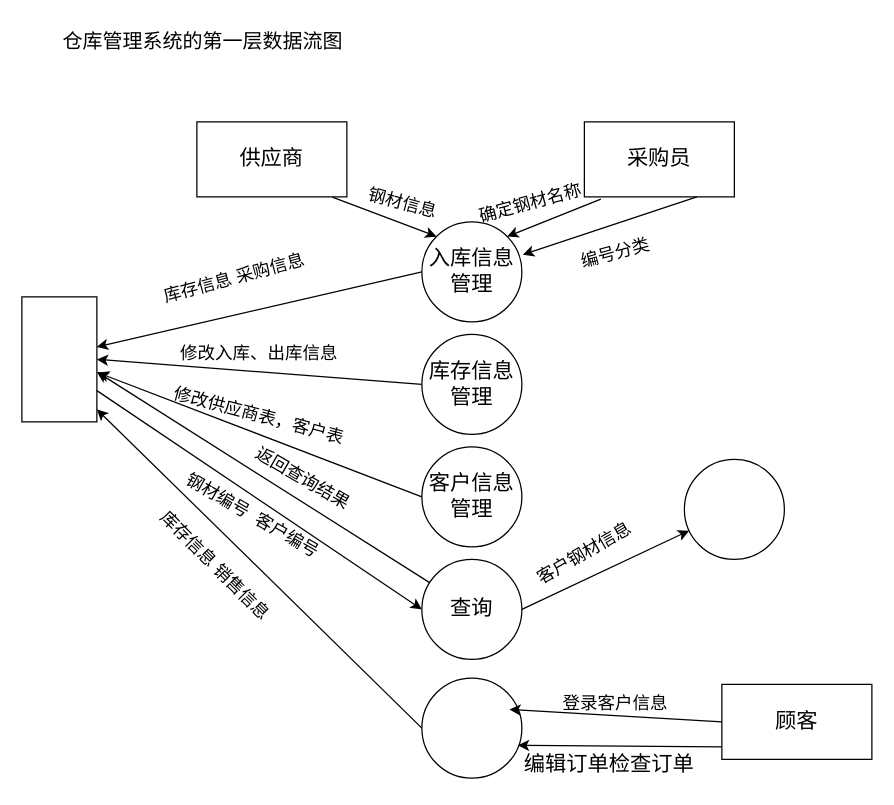
Some shapes in this 894 by 805 pixel diagram are drawn without their labels. The centre of each missing label's shape, as x and y in pixels:
仓库管理员: (59,359)
出库信息管理: (471,727)
打印: (733,508)
